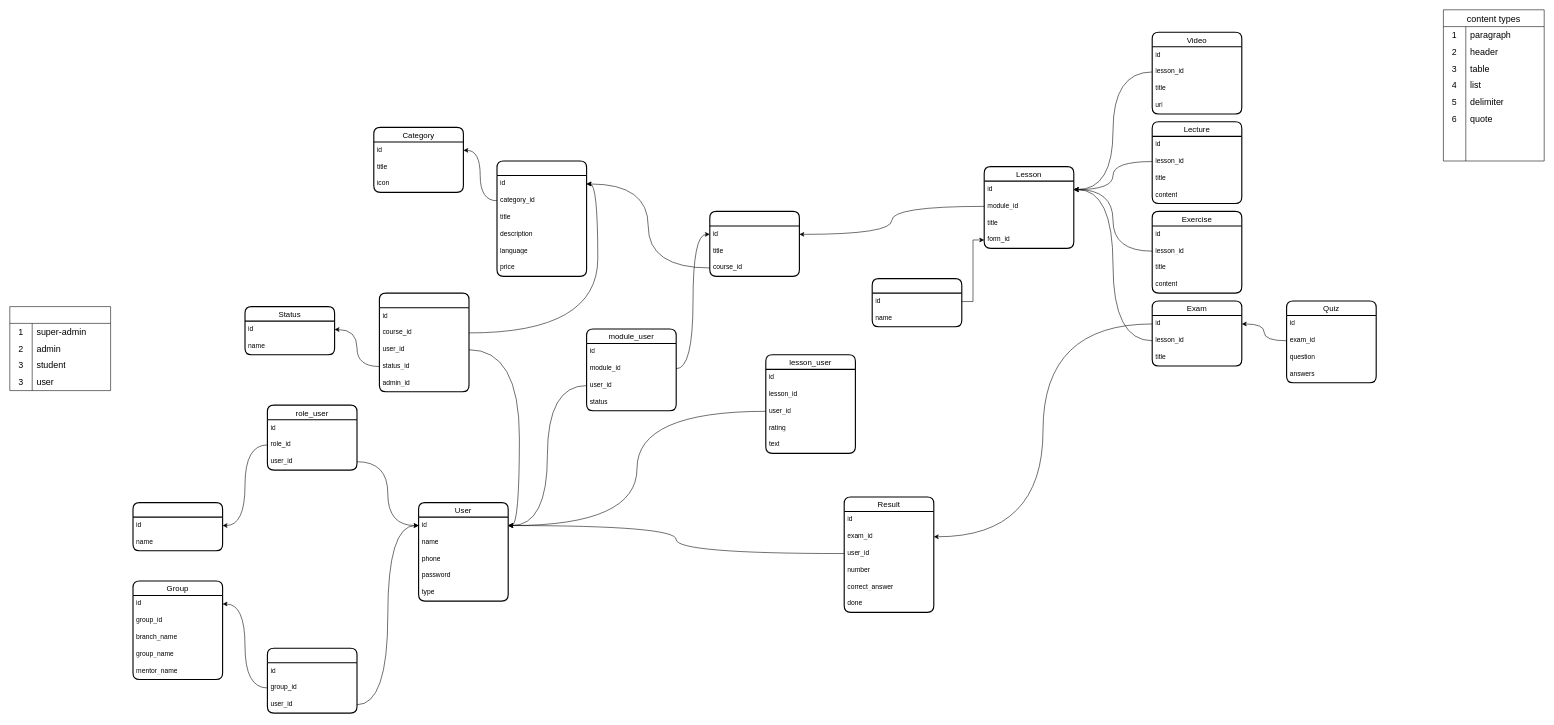
Some shapes in this 1554 by 725 pixel diagram are drawn without their labels. The box of each missing label's shape, as (x1, y1, x2, y2) in pixels:
Course: (496, 160, 587, 277)
Form: (871, 278, 962, 327)
group_user: (267, 647, 357, 713)
Module: (709, 211, 800, 277)
Order: (379, 292, 469, 392)
Role: (132, 502, 223, 551)
roles: (9, 306, 111, 391)
